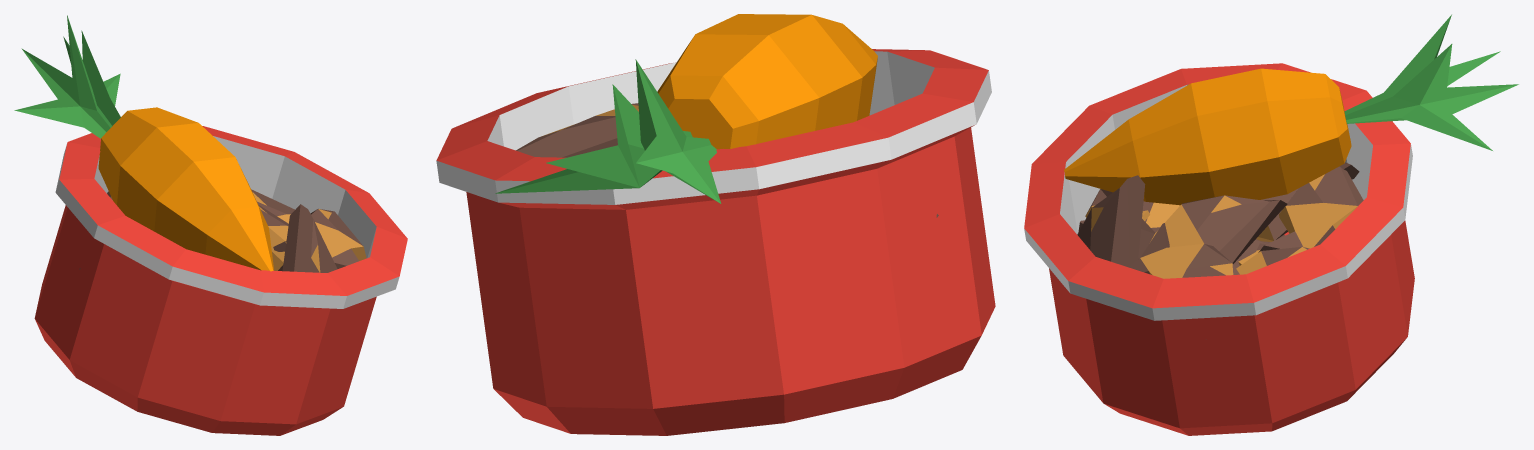
File: carrot_kibble.fbx
3 renders of one model, left to right at view 1: azimuth 30°, elevation 25°; view 2: azimuth 150°, elevation 25°; view 3: azimuth 270°, elevation 25°, orthographic. The views are drawn at different scales.
Visible parts, largest first — view 1: group_1562374126, group_1368188018; view 2: group_1562374126, group_1368188018; view 3: group_1562374126, group_1368188018.
Part boxes in pixels (x1,y1,x2,y2): group_1562374126: [34, 126, 407, 435]; group_1368188018: [14, 15, 273, 271]; group_1562374126: [436, 49, 995, 435]; group_1368188018: [495, 14, 877, 203]; group_1562374126: [1024, 63, 1414, 435]; group_1368188018: [1064, 14, 1518, 205].
Bounding box in the file's own units: 11.7 × 11.13 × 14.4.
